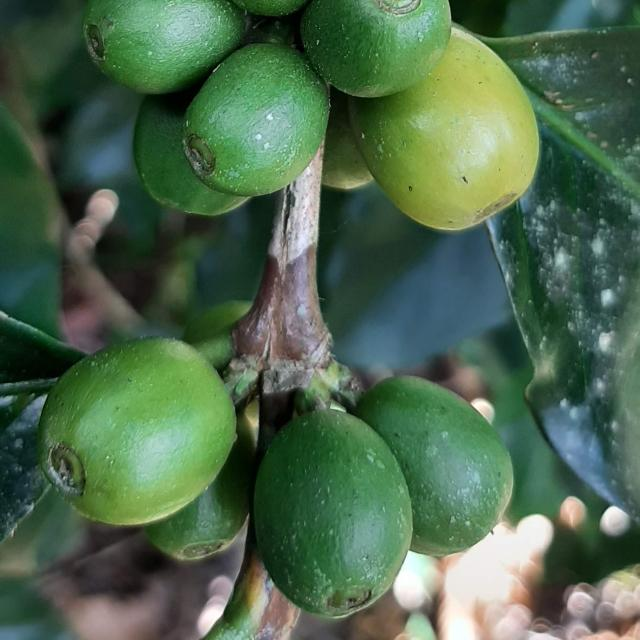green: (254, 409, 413, 619), (356, 377, 514, 557), (181, 42, 329, 196), (82, 0, 245, 93), (301, 0, 451, 97), (133, 90, 248, 215), (144, 441, 254, 562)
yellow: (350, 28, 540, 230), (38, 338, 236, 526)
